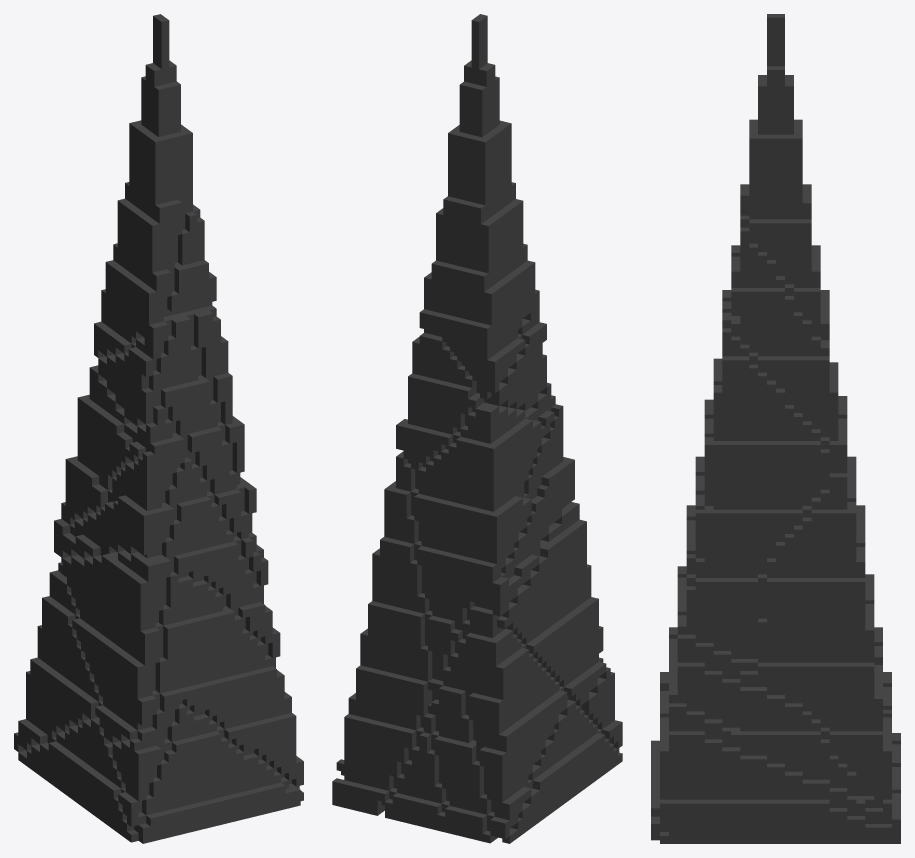
File: Estalactite.obj
3 renders of one model, left to right at view 1: azimuth 30°, elevation 25°; view 2: azimuth 150°, elevation 25°; view 3: azimuth 270°, elevation 25°, orthographic. The views are drawn at different scales.
Size of the model in its own units: 2.3 by 9.7 by 2.8.
1 material, 1 textured.
